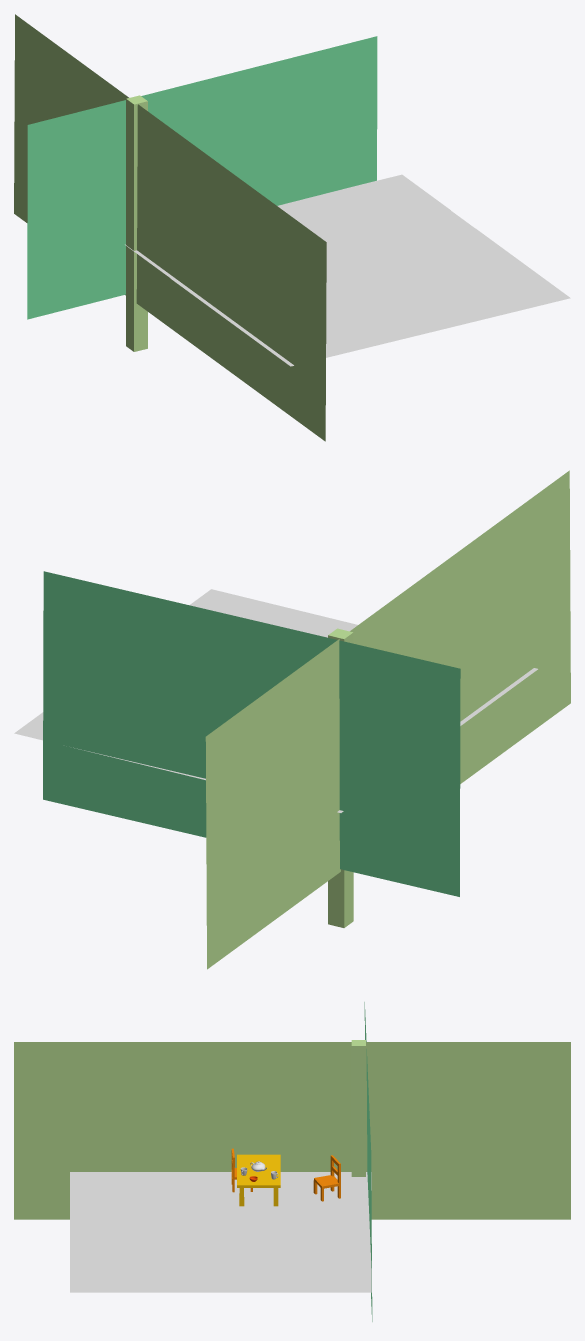
File: lab1.fbx
The picture shows the model from 3 angles, top to bottom: view 1: azimuth 30°, elevation 25°; view 2: azimuth 150°, elevation 25°; view 3: azimuth 270°, elevation 25°; orthographic projection. The views are drawn at different scales.
Visible parts, largest first — view 1: Plane.001, Plane.002, Cube.003, Plane.029, Plane.046, Plane.023, Plane.026, Plane.031, Plane.028, Plane.044, Plane.045, Plane.024 (+18 smaller); view 2: Plane.002, Plane.001, Cube.003, Plane.044, Plane.043, Plane.045; view 3: Plane.001, Cube.003, Cube.002, Plane.029, Plane.016, Plane.025, Plane.041, Plane.046, Plane.044, Plane.024, Plane.023, Plane.039 (+34 smaller).
Part boxes in pixels (box(x1,y1,x2,y2)): Plane.001: box(14, 14, 326, 441); Plane.002: box(27, 36, 377, 319); Cube.003: box(126, 95, 147, 351); Plane.029: box(357, 221, 428, 250); Plane.046: box(361, 314, 431, 343); Plane.023: box(356, 174, 426, 203); Plane.026: box(428, 228, 498, 257); Plane.031: box(406, 257, 475, 285); Plane.028: box(333, 204, 404, 232); Plane.044: box(500, 280, 570, 309); Plane.045: box(408, 303, 476, 331); Plane.024: box(405, 210, 474, 239); Plane.002: box(43, 571, 460, 896); Plane.001: box(205, 470, 570, 969); Cube.003: box(328, 628, 353, 927); Plane.044: box(189, 589, 266, 618); Plane.043: box(245, 602, 320, 630); Plane.045: box(299, 615, 357, 637); Plane.001: box(14, 1042, 570, 1219); Cube.003: box(351, 1040, 365, 1176); Cube.002: box(237, 1154, 280, 1206); Plane.029: box(240, 1251, 284, 1272); Plane.016: box(240, 1211, 284, 1232); Plane.025: box(284, 1272, 328, 1292); Plane.041: box(112, 1272, 156, 1292); Plane.046: box(70, 1211, 113, 1232); Plane.044: box(70, 1272, 113, 1292); Plane.024: box(241, 1272, 284, 1292); Plane.023: box(328, 1272, 371, 1292); Plane.039: box(112, 1211, 156, 1231).
Size of the model in its own units: 5466 by 3417 by 7797.
